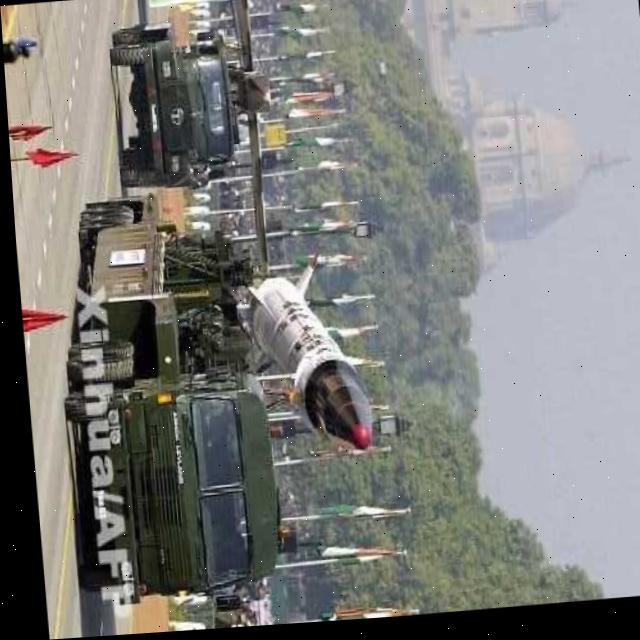missile: (227, 255, 381, 484)
